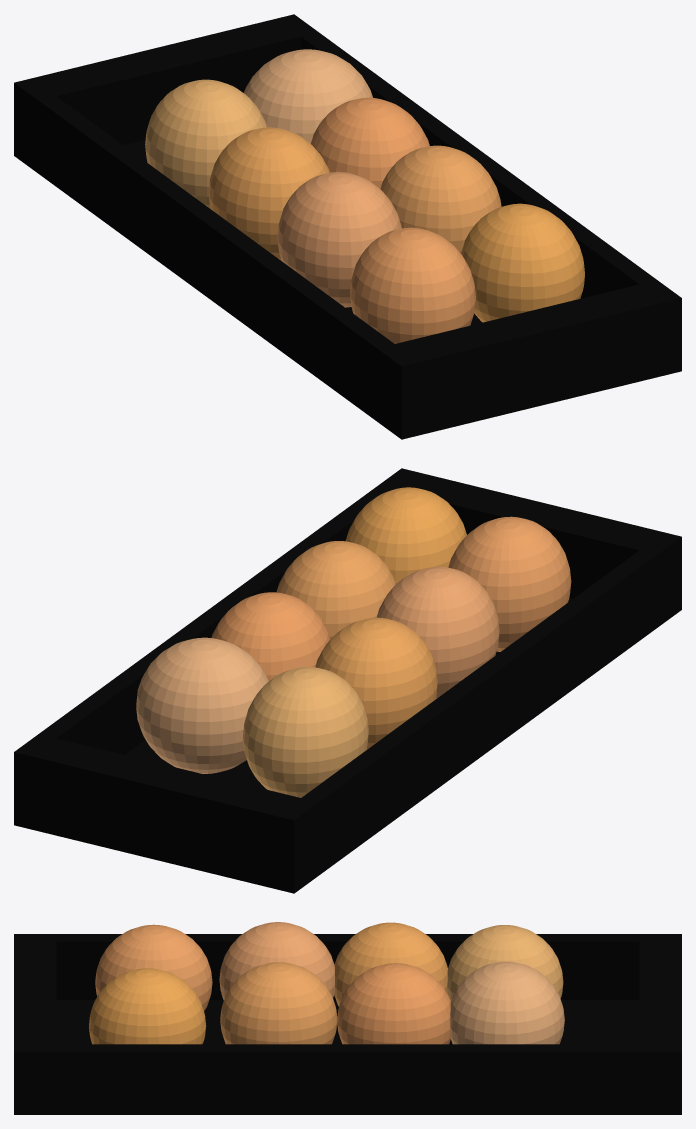
Rendered from KUE CIPUT.fbx.
The picture shows the model from 3 angles, top to bottom: view 1: azimuth 30°, elevation 25°; view 2: azimuth 150°, elevation 25°; view 3: azimuth 270°, elevation 25°; orthographic projection. The views are drawn at different scales.
Parts seen in each view (by area): view 1: Cube, Sphere.001, Sphere, Sphere.002, Sphere.005, Sphere.007, Sphere.003, Sphere.006, Sphere.004; view 2: Cube, Sphere.006, Sphere.007, Sphere.001, Sphere.005, Sphere.002, Sphere, Sphere.003, Sphere.004; view 3: Cube, Sphere.003, Sphere.006, Sphere.004, Sphere, Sphere.001, Sphere.005, Sphere.002, Sphere.007.
Part boxes in pixels (x1=…): Cube: x1=14, y1=14, x2=681, y2=439; Sphere.001: x1=350, y1=227, x2=475, y2=343; Sphere: x1=461, y1=203, x2=584, y2=322; Sphere.002: x1=277, y1=172, x2=401, y2=307; Sphere.005: x1=208, y1=127, x2=329, y2=260; Sphere.007: x1=145, y1=79, x2=266, y2=208; Sphere.003: x1=380, y1=145, x2=501, y2=253; Sphere.006: x1=244, y1=49, x2=372, y2=143; Sphere.004: x1=310, y1=97, x2=429, y2=188; Cube: x1=14, y1=468, x2=681, y2=893; Sphere.006: x1=136, y1=637, x2=268, y2=773; Sphere.007: x1=242, y1=667, x2=368, y2=797; Sphere.001: x1=448, y1=516, x2=571, y2=651; Sphere.005: x1=315, y1=617, x2=437, y2=749; Sphere.002: x1=376, y1=566, x2=499, y2=698; Sphere: x1=345, y1=487, x2=466, y2=583; Sphere.003: x1=276, y1=541, x2=395, y2=639; Sphere.004: x1=211, y1=592, x2=330, y2=681; Cube: x1=14, y1=934, x2=681, y2=1114; Sphere.003: x1=220, y1=962, x2=337, y2=1044; Sphere.006: x1=450, y1=961, x2=564, y2=1044; Sphere.004: x1=337, y1=963, x2=450, y2=1044; Sphere: x1=89, y1=968, x2=206, y2=1044; Sphere.001: x1=95, y1=924, x2=212, y2=1011; Sphere.005: x1=334, y1=922, x2=447, y2=1006; Sphere.002: x1=219, y1=922, x2=334, y2=1000; Sphere.007: x1=447, y1=925, x2=563, y2=1001.
Size of the model in its own units: 70.67 by 31.1 by 169.
